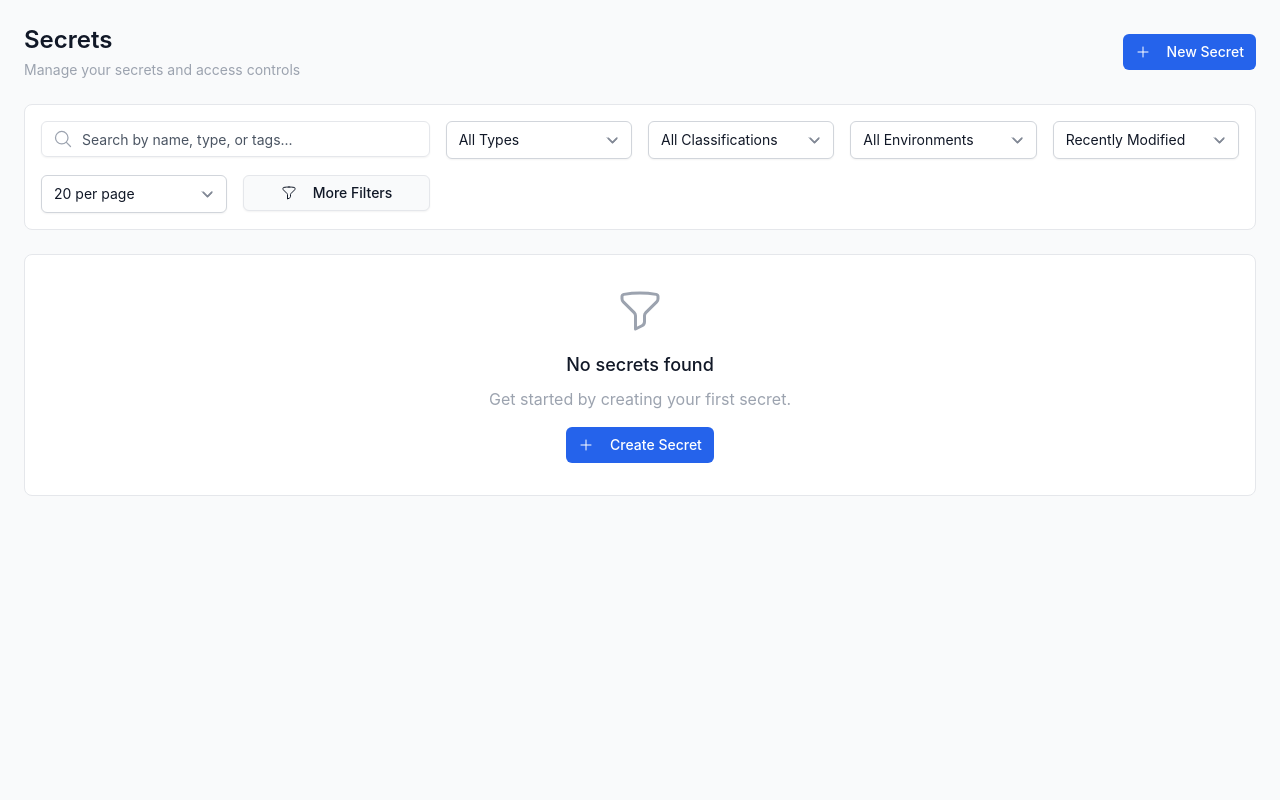
it: SecretsListPage — create secret: naming policy validation › shows the naming policy hint and blocks submission for a name violating the pattern
This screenshot has width=1280, height=800.
Click the button with test id "create-secret-button" at coordinates (1189, 52), box [1123, 34, 1256, 70]
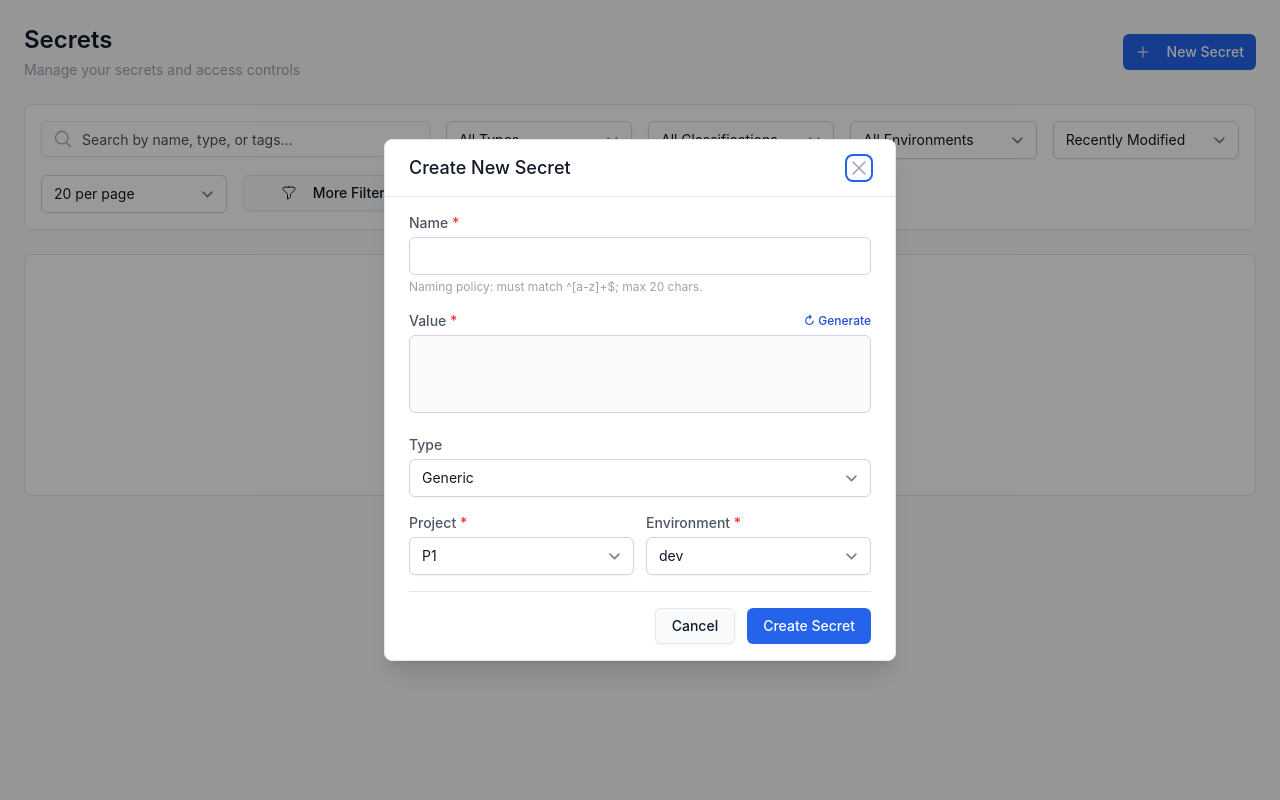
Result: the text "Naming policy: must match ^[a-z]+$; max 20 chars." is shown at [409, 279, 703, 294]
Type "Invalid123" into the field labelled "Name *" at coordinates (640, 256), box [409, 237, 871, 275]
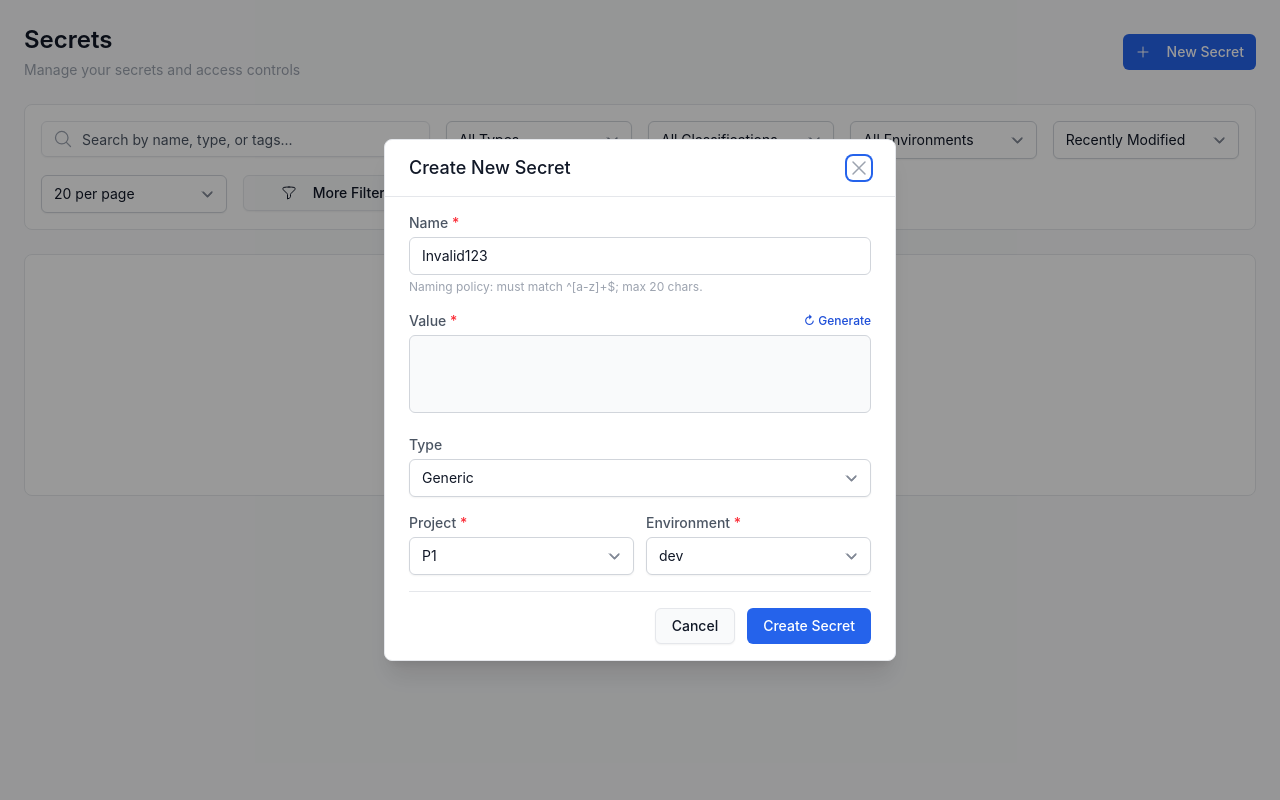
Type "super-secret" into the text box labelled "Value *" at coordinates (640, 374), box [409, 335, 871, 413]
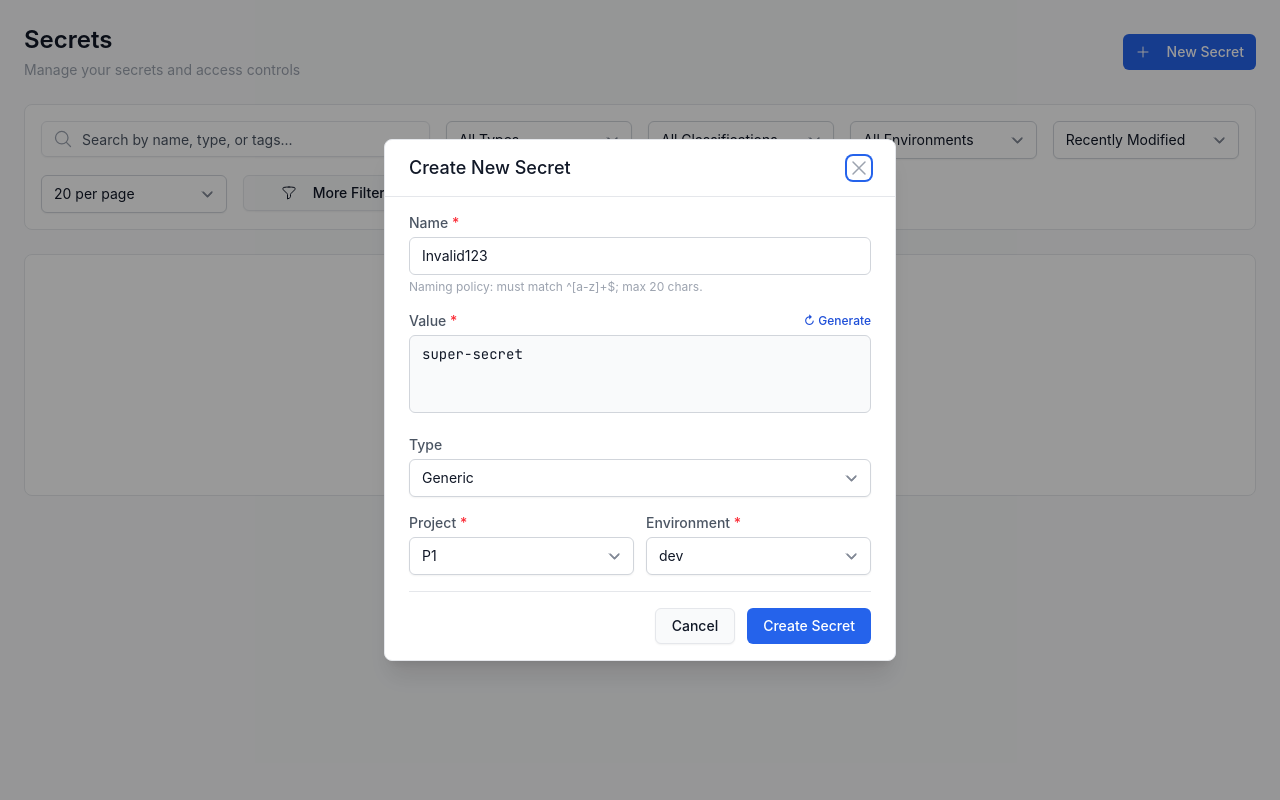
Click the button with test id "create-secret-submit" at coordinates (809, 626), box [747, 608, 871, 644]
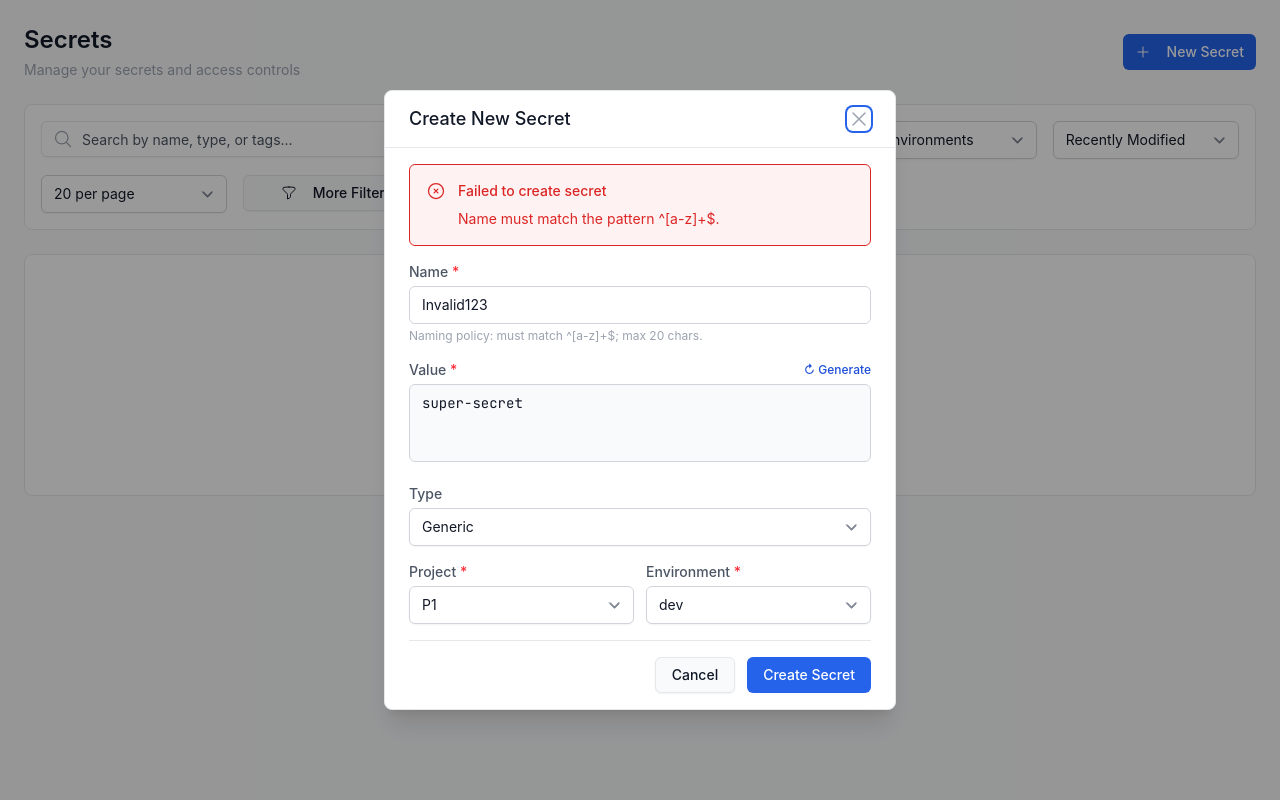
Result: the text "Name must match the pattern ^[a-z]+$." is shown at [458, 210, 720, 227]
